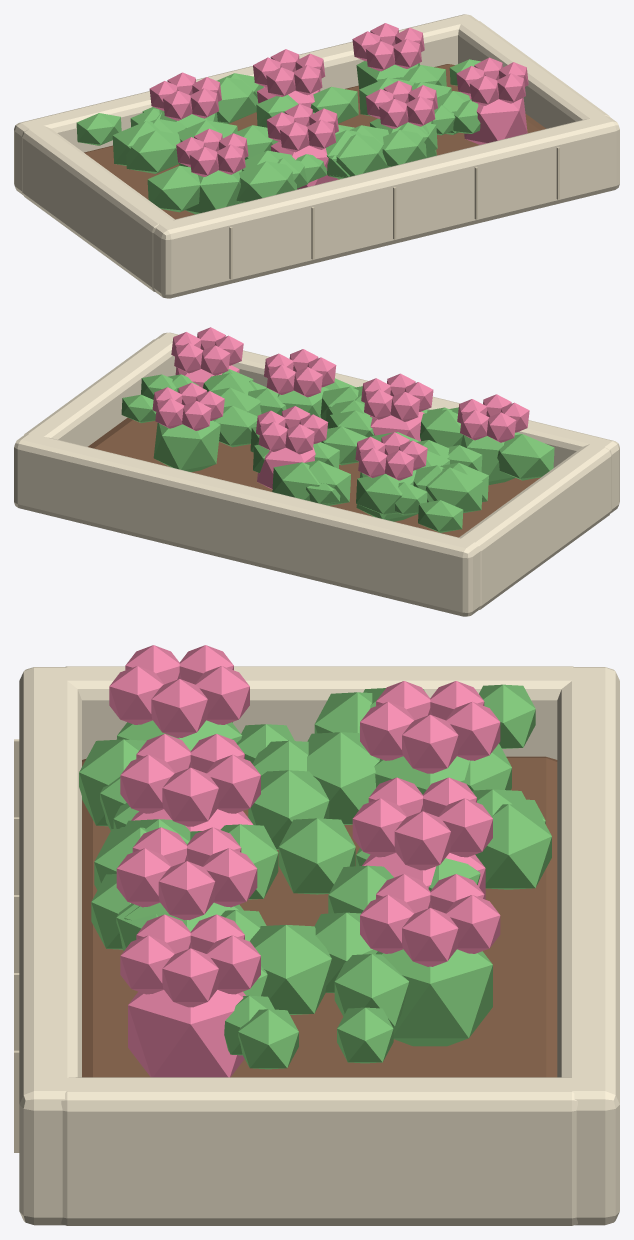
The model's file is flowerbed.glb.
The picture shows the model from 3 angles, top to bottom: view 1: azimuth 30°, elevation 25°; view 2: azimuth 150°, elevation 25°; view 3: azimuth 270°, elevation 25°; orthographic projection. The views are drawn at different scales.
Parts seen in each view (by area): view 1: planter_long_border, planter_end_border, planter_long_border.001, planter_end_border.001, flowerbed_soil, Icosphere.060, Icosphere.012, Icosphere.036, Icosphere.029, Icosphere.015, Icosphere.042, Icosphere (+41 smaller); view 2: planter_long_border.001, planter_end_border, flowerbed_soil, planter_end_border.001, planter_long_border, Icosphere.078, Icosphere.012, Icosphere.020, Icosphere.001, Icosphere.034, Icosphere.030, Icosphere.028 (+44 smaller); view 3: planter_end_border.001, flowerbed_soil, planter_long_border.001, planter_long_border, planter_end_border, Icosphere.060, Icosphere.078, Icosphere.027, Icosphere.034, Icosphere.014, Icosphere.037, Icosphere.003 (+57 smaller).
Boxes of the visible parts, left/top/right/bottom form: planter_long_border: left=153, top=115, right=619, bottom=298; planter_end_border: left=22, top=126, right=174, bottom=291; planter_long_border.001: left=14, top=14, right=478, bottom=195; planter_end_border.001: left=458, top=20, right=609, bottom=128; flowerbed_soil: left=84, top=64, right=545, bottom=219; Icosphere.060: left=464, top=96, right=527, bottom=144; Icosphere.012: left=147, top=165, right=200, bottom=212; Icosphere.036: left=126, top=130, right=180, bottom=173; Icosphere.029: left=236, top=161, right=296, bottom=202; Icosphere.015: left=327, top=134, right=388, bottom=177; Icosphere.042: left=185, top=166, right=243, bottom=214; Icosphere: left=217, top=77, right=258, bottom=123; planter_long_border.001: left=14, top=433, right=480, bottom=616; planter_end_border: left=459, top=444, right=611, bottom=609; flowerbed_soil: left=88, top=417, right=540, bottom=537; planter_end_border.001: left=24, top=338, right=175, bottom=446; planter_long_border: left=156, top=332, right=619, bottom=513; Icosphere.078: left=153, top=420, right=220, bottom=471; Icosphere.012: left=497, top=434, right=554, bottom=480; Icosphere.020: left=426, top=467, right=482, bottom=513; Icosphere.001: left=356, top=474, right=413, bottom=514; Icosphere.034: left=272, top=462, right=319, bottom=501; Icosphere.030: left=420, top=409, right=462, bottom=447; Icosphere.028: left=213, top=405, right=257, bottom=447; planter_end_border.001: left=61, top=1077, right=577, bottom=1225; flowerbed_soil: left=82, top=756, right=557, bottom=1077; planter_long_border.001: left=557, top=667, right=619, bottom=1225; planter_long_border: left=19, top=667, right=81, bottom=1225; planter_end_border: left=65, top=666, right=573, bottom=759; Icosphere.060: left=128, top=990, right=245, bottom=1077; Icosphere.078: left=376, top=949, right=492, bottom=1046; Icosphere.027: left=250, top=925, right=331, bottom=1014; Icosphere.034: left=475, top=804, right=551, bottom=889; Icosphere.014: left=278, top=818, right=355, bottom=894; Icosphere.037: left=307, top=732, right=379, bottom=825; Icosphere.003: left=248, top=770, right=329, bottom=849.
Bounding box in the file's own units: 2.81 × 0.66 × 1.64.
